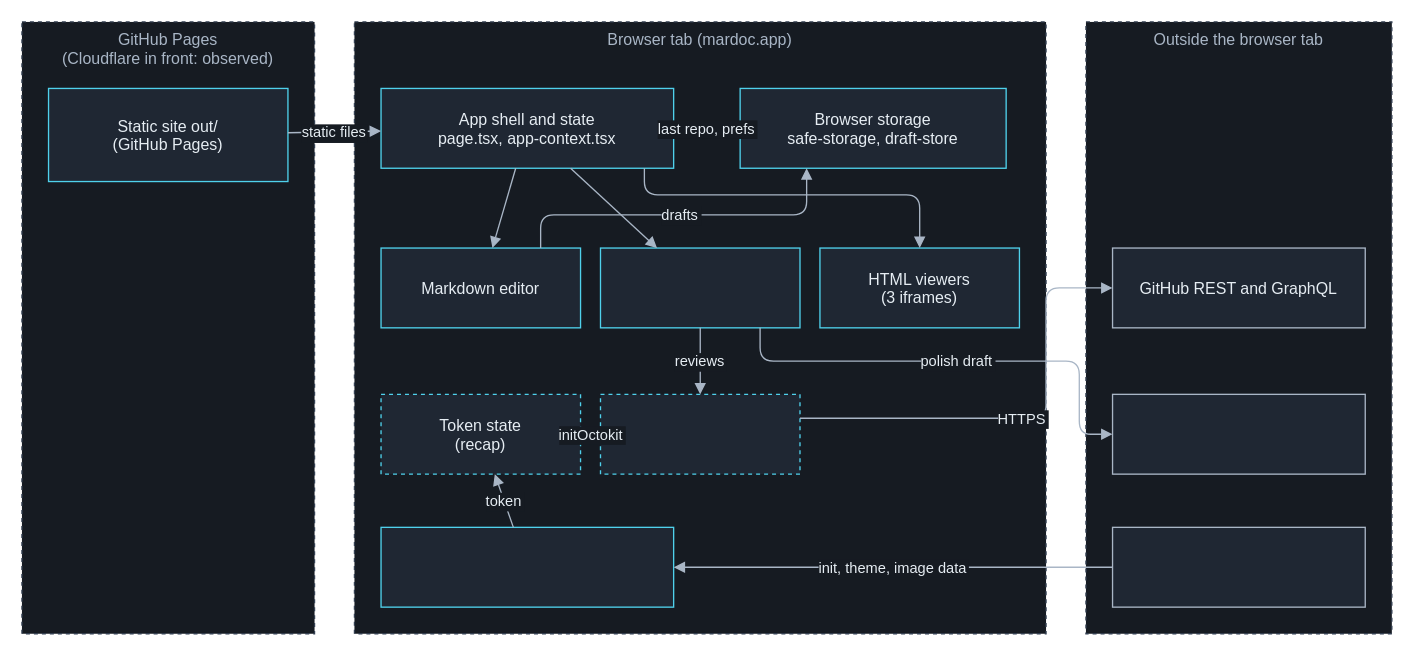
The diagram is 1414 pixels wide and 656 high, and some of its shapes have lost their labels. The shapes that lost their labels are listed below. From the top down, each one's centre as x and y in pixels, then its label:
(x=699, y=287): PR review (PRDetail)
(x=699, y=433): GitHub client (recap)
(x=1238, y=433): AI feedback endpoint (optional, user-set)
(x=527, y=566): Embed init listener (window messages)
(x=1238, y=566): VS Code extension (mardoc-vscode)
